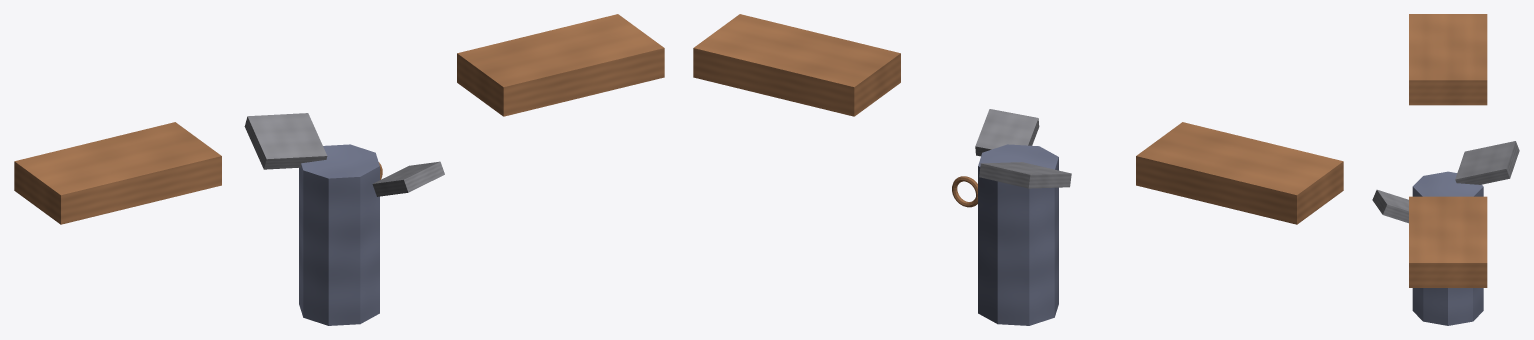
The model's file is shattered-causeway.glb.
3 renders of one model, left to right at view 1: azimuth 30°, elevation 25°; view 2: azimuth 150°, elevation 25°; view 3: azimuth 270°, elevation 25°, orthographic. The views are drawn at different scales.
Parts seen in each view (by area): view 1: causeway-support-pillar, causeway-left-span, causeway-right-span, causeway-collapse-shard-0, causeway-collapse-shard-1; view 2: causeway-left-span, causeway-right-span, causeway-support-pillar, causeway-collapse-shard-1, causeway-collapse-shard-0; view 3: causeway-left-span, causeway-right-span, causeway-support-pillar, causeway-collapse-shard-0, causeway-collapse-shard-1.
Part boxes in pixels (x1,y1,x2,y2): causeway-support-pillar: (299,144,379,325); causeway-left-span: (14,122,221,224); causeway-right-span: (457,14,664,116); causeway-collapse-shard-0: (244,113,327,169); causeway-collapse-shard-1: (372,161,444,196); causeway-left-span: (1136,122,1343,224); causeway-right-span: (693,14,900,116); causeway-support-pillar: (978,144,1058,325); causeway-collapse-shard-1: (975,109,1039,156); causeway-collapse-shard-0: (979,162,1071,188); causeway-left-span: (1409,14,1487,105); causeway-right-span: (1409,196,1487,287); causeway-support-pillar: (1412,171,1483,325); causeway-collapse-shard-0: (1455,141,1519,184); causeway-collapse-shard-1: (1372,189,1408,223).
Bounding box in the file's own units: 3 × 0.97 × 0.7503.
6 materials, 6 textured.
